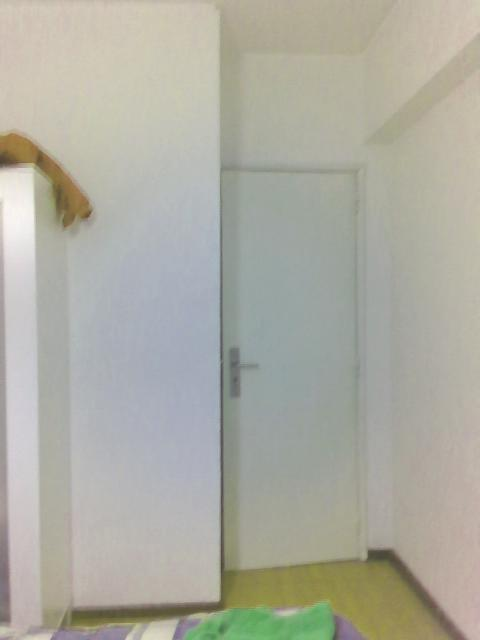closed_door: (216, 165, 364, 567)
